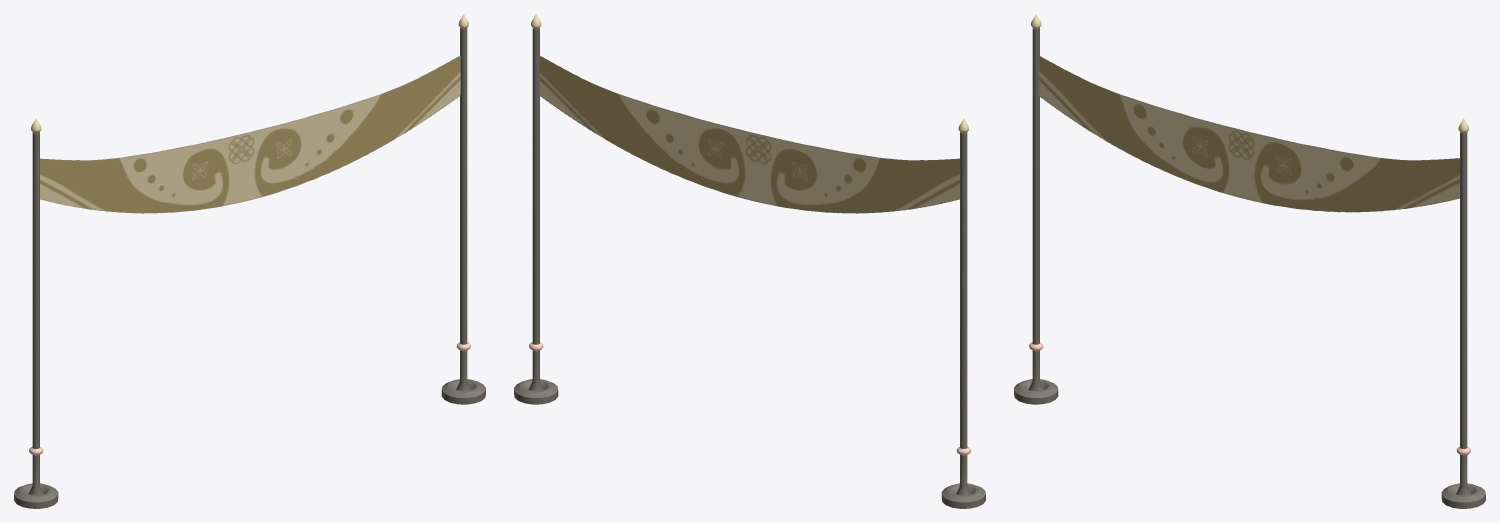
The model's file is Banderole_01.fbx.
The picture shows the model from 3 angles, left to right: view 1: azimuth 30°, elevation 25°; view 2: azimuth 150°, elevation 25°; view 3: azimuth 330°, elevation 25°; orthographic projection.
Parts seen in each view (by area): view 1: pCylinder3; view 2: pCylinder3; view 3: pCylinder3.
Part boxes in pixels (x1,y1,x2,y2): pCylinder3: (14,14,485,508); pCylinder3: (514,14,985,508); pCylinder3: (1014,14,1485,508).
Size of the model in its own units: 7.46 by 5.83 by 0.6177.
